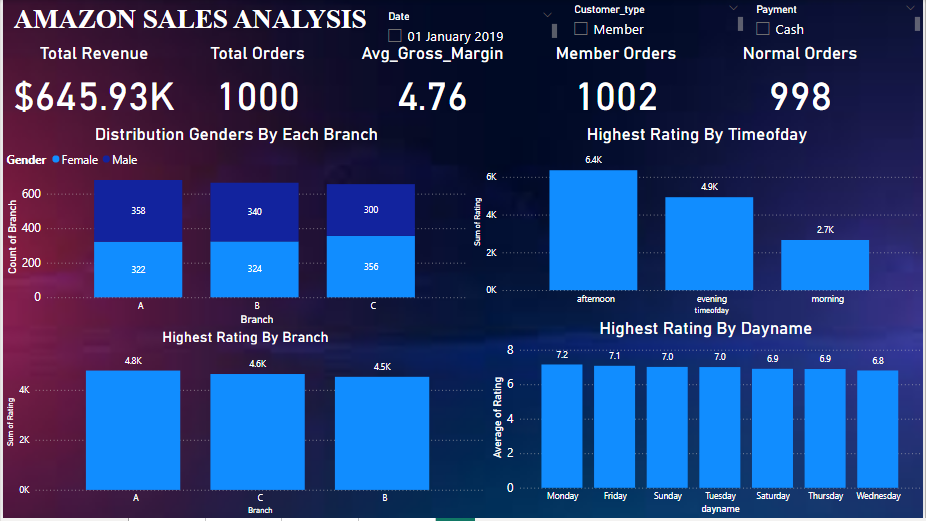

The page's visual inventory and layout, read from the dashboard file:
{"tool":"powerbi","page":{"name":"Page 4","canvas":[1280,720],"ordinal":3},"visuals":[{"type":"textbox","box":[10.2,0,562.1,59.3],"z":0},{"type":"card","title":"Total Revenue","fields":{"Values":["Sum(sql_capstone_project project.Total)"]},"box":[0,59.8,253,112.6],"z":1000},{"type":"slicer","fields":{"Values":["sql_capstone_project project.Payment"]},"box":[1034.1,0,246,69.5],"z":2000},{"type":"card","title":"Total Orders","fields":{"Values":["Count(sql_capstone_project project.Invoice_ID)"]},"box":[253,59.8,201.5,112.6],"z":3000},{"type":"card","title":"Avg_Gross_Margin","fields":{"Values":["Avg(sql_capstone_project project.gross_margin_percentage)"]},"box":[467,59.8,259.9,112.6],"z":4000},{"type":"card","title":"Member Orders","fields":{"Values":["sql_capstone_project project.Member Orders"]},"box":[736.7,59.8,230.7,112.6],"z":5000},{"type":"card","title":"Normal Orders","fields":{"Values":["sql_capstone_project project.Normal Orders"]},"box":[992.4,59.8,230.7,112.6],"z":6000},{"type":"columnChart","title":"Distribution Genders By Each Branch","fields":{"Category":["sql_capstone_project project.Branch"],"Y":["CountNonNull(sql_capstone_project project.Branch)"],"Series":["sql_capstone_project project.Gender"]},"box":[0,172.4,649.1,283.6],"z":7000},{"type":"columnChart","title":"Highest Rating By Timeofday","fields":{"Category":["sql_capstone_project project.timeofday"],"Y":["Sum(sql_capstone_project project.Rating)"]},"box":[649.1,172.4,631,269.7],"z":8000},{"type":"columnChart","title":"Highest Rating By Branch","fields":{"Category":["sql_capstone_project project.Branch"],"Y":["Sum(sql_capstone_project project.Rating)"]},"box":[0,455.9,674.1,264.1],"z":9000},{"type":"columnChart","title":"Highest Rating By Dayname","fields":{"Y":["Avg(sql_capstone_project project.Rating)"],"Category":["sql_capstone_project project.dayname"]},"box":[674.1,442,606,278],"z":10000},{"type":"slicer","fields":{"Values":["sql_capstone_project project.Customer_type"]},"box":[781.2,0,253,59.8],"z":11000},{"type":"slicer","fields":{"Values":["sql_capstone_project project.Date"]},"box":[522.9,10,253,59.8],"z":12000}]}

Visuals, with their boxes in screenshot pixels (x1, y1, x2, y2), scaled from the page's 1280x720 canvas onto the 926x521 screenshot:
textbox: (x1=7, y1=0, x2=414, y2=43)
"Total Revenue" card: (x1=0, y1=43, x2=183, y2=125)
slicer - sql_capstone_project project.Payment: (x1=748, y1=0, x2=925, y2=50)
"Total Orders" card: (x1=183, y1=43, x2=329, y2=125)
"Avg_Gross_Margin" card: (x1=338, y1=43, x2=526, y2=125)
"Member Orders" card: (x1=533, y1=43, x2=700, y2=125)
"Normal Orders" card: (x1=718, y1=43, x2=885, y2=125)
"Distribution Genders By Each Branch" columnChart: (x1=0, y1=125, x2=470, y2=330)
"Highest Rating By Timeofday" columnChart: (x1=470, y1=125, x2=925, y2=320)
"Highest Rating By Branch" columnChart: (x1=0, y1=330, x2=488, y2=520)
"Highest Rating By Dayname" columnChart: (x1=488, y1=320, x2=925, y2=520)
slicer - sql_capstone_project project.Customer_type: (x1=565, y1=0, x2=748, y2=43)
slicer - sql_capstone_project project.Date: (x1=378, y1=7, x2=561, y2=51)
